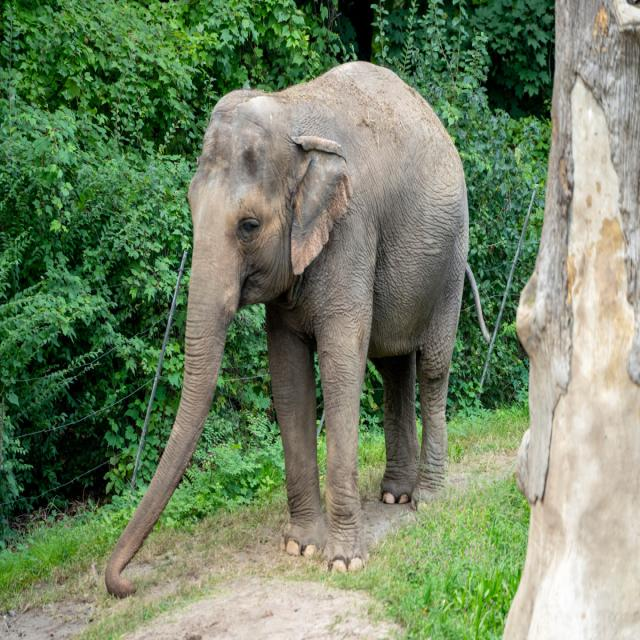Elephant: (104, 59, 491, 598)
